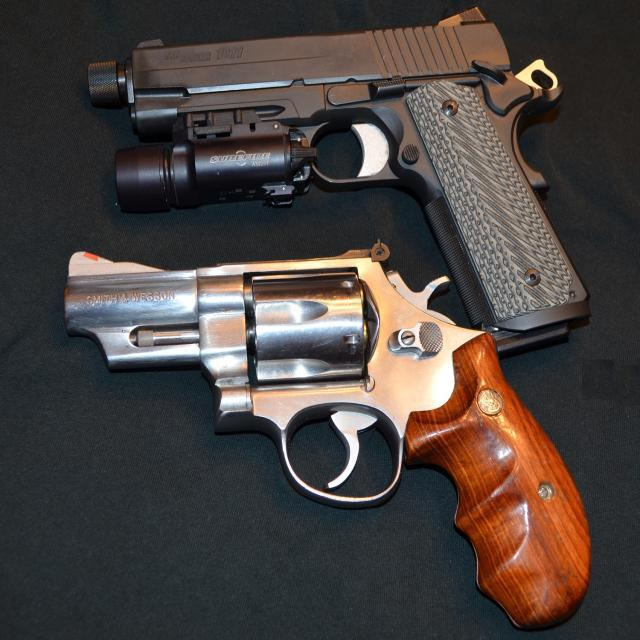Pistol: (45, 232, 619, 631), (60, 5, 612, 347)
